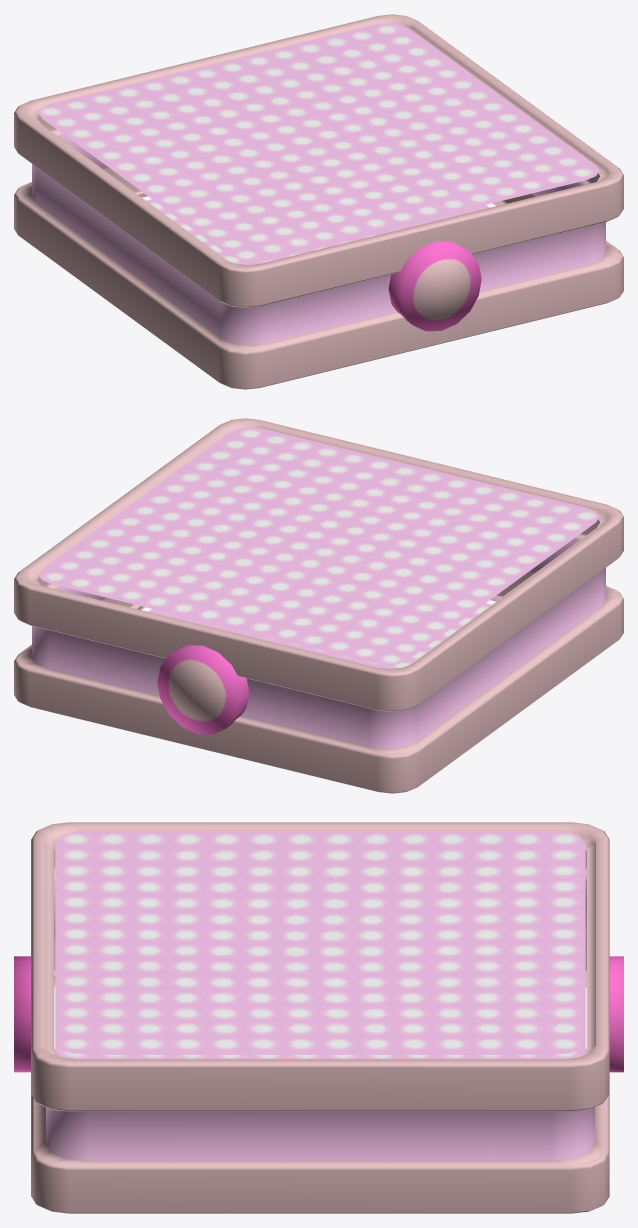
Rendered from MEC0110005.fbx.
3 views of the same model, one above another, from view 1: azimuth 30°, elevation 25°; view 2: azimuth 150°, elevation 25°; view 3: azimuth 270°, elevation 25° (orthographic). The views are drawn at different scales.
Visible parts, largest first — view 1: smMEC0110005; view 2: smMEC0110005; view 3: smMEC0110005.
Part boxes in pixels (x1,y1,x2,y2): smMEC0110005: (14, 14, 623, 389); smMEC0110005: (14, 418, 623, 793); smMEC0110005: (14, 822, 623, 1213).
Size of the model in its own units: 221 by 63.24 by 233.
1 material, 1 textured.
